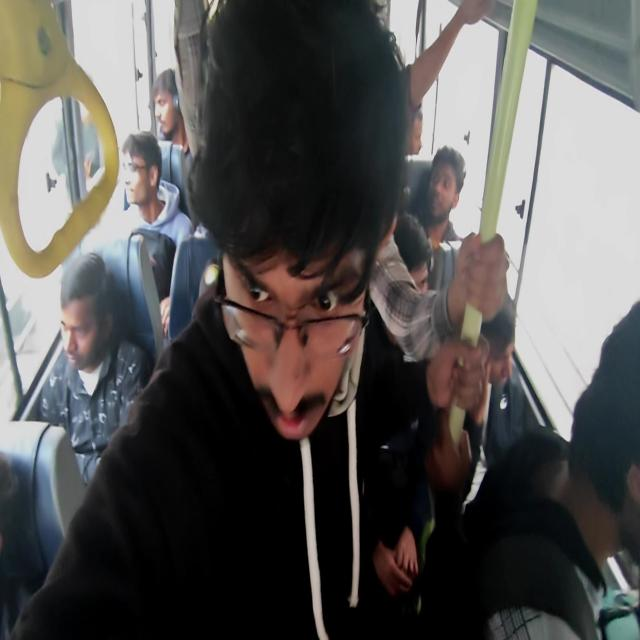person: (210, 34, 343, 367), (581, 326, 640, 639), (478, 297, 542, 436), (432, 152, 487, 252), (58, 266, 108, 363), (402, 210, 432, 355), (130, 130, 169, 213), (139, 56, 182, 126), (387, 100, 439, 156)
